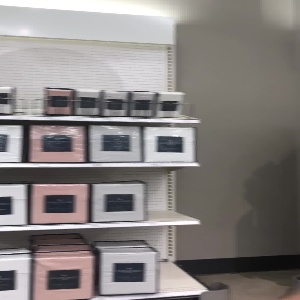void: (161, 228, 207, 296), (146, 166, 197, 222), (14, 39, 41, 117)
